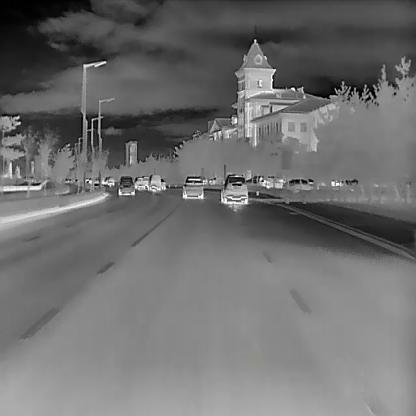car: (219, 172, 247, 203), (181, 174, 203, 198), (282, 177, 312, 190), (118, 174, 134, 195), (147, 173, 160, 189), (133, 176, 144, 188), (107, 174, 114, 184), (160, 176, 165, 188)
